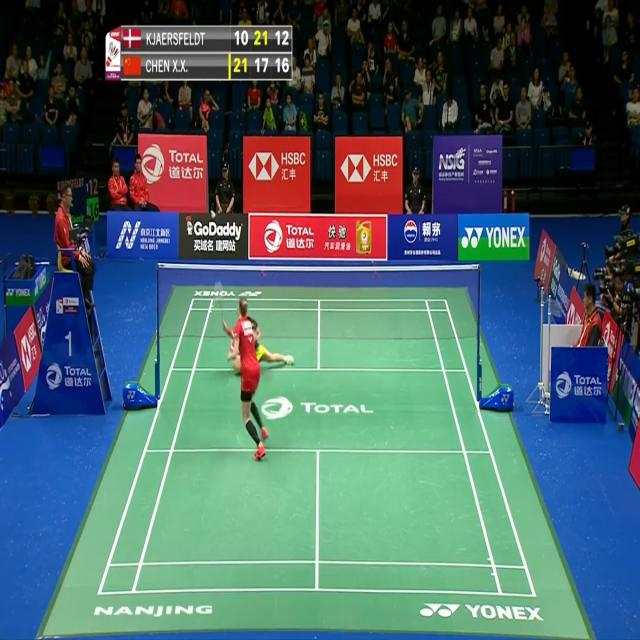Player1: (226, 291, 274, 470)
